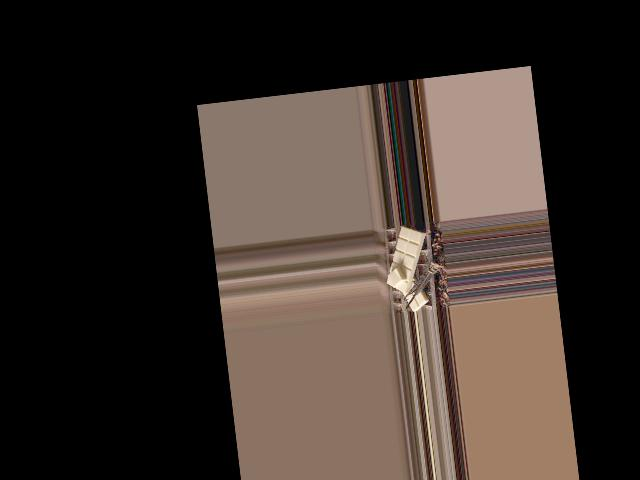chocolate: (381, 224, 431, 297)
